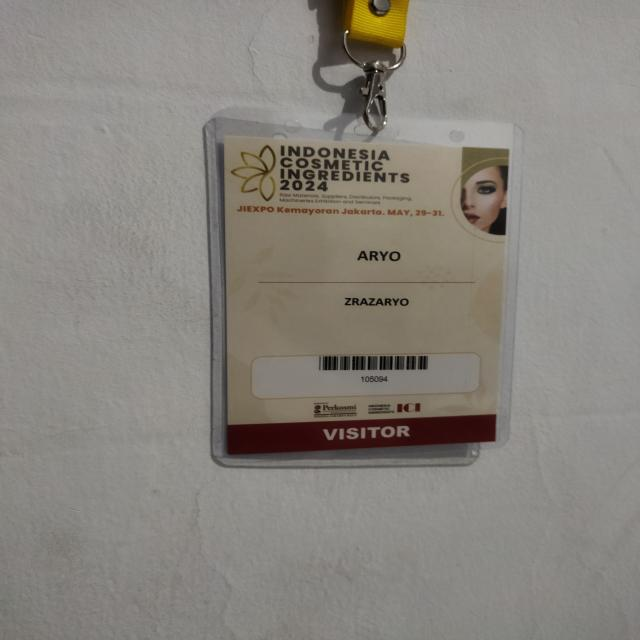ID_card: (203, 112, 520, 466)
